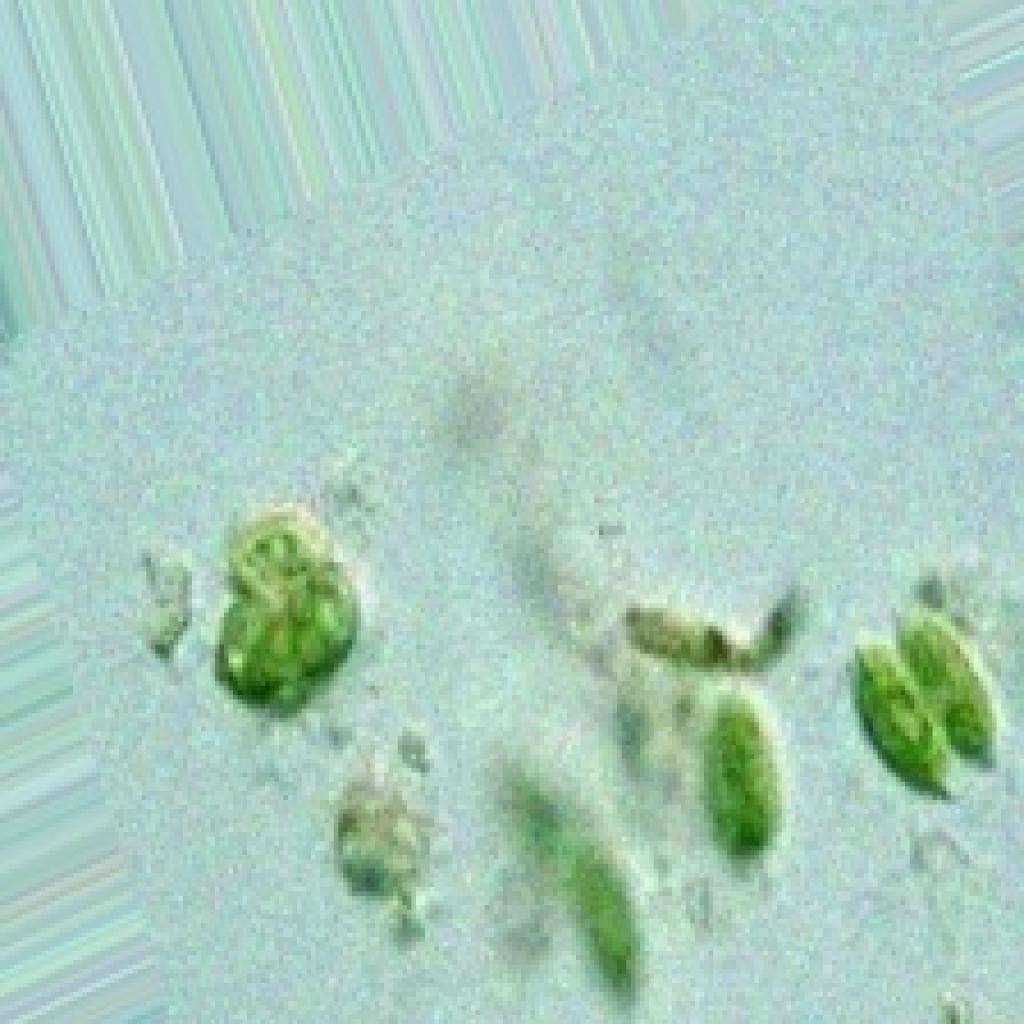Microalgae: (210, 503, 357, 713)
